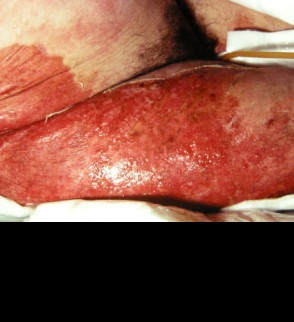SJS-TEN: (0, 0, 294, 216)
